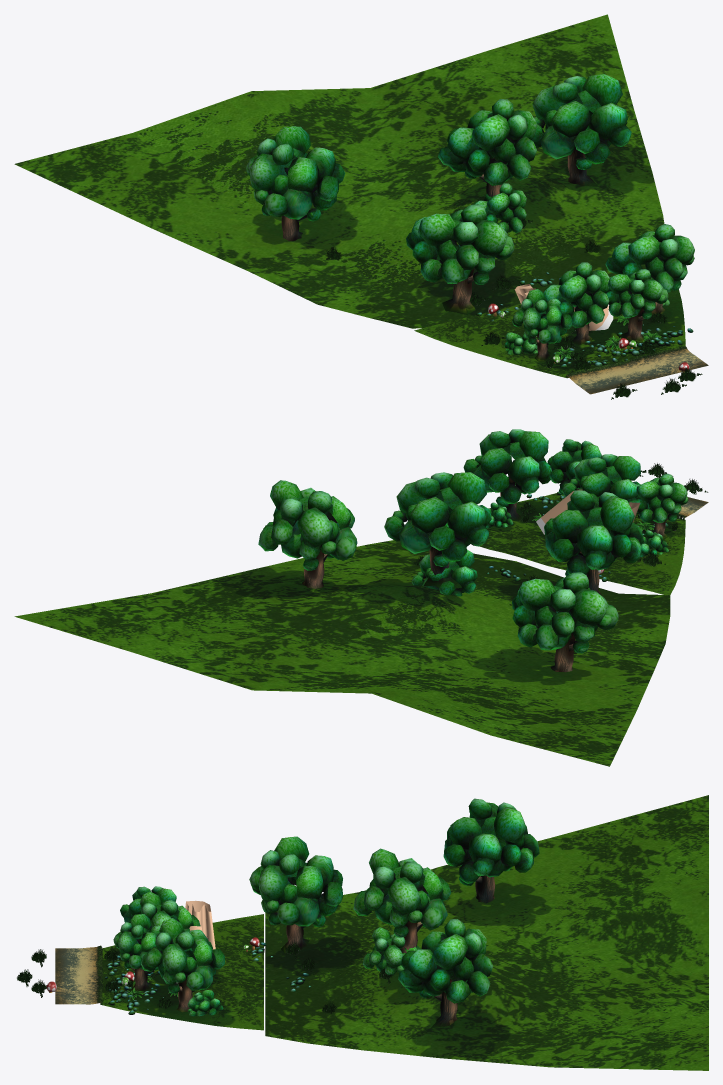
3 views of the same model, one above another, from view 1: azimuth 30°, elevation 25°; view 2: azimuth 150°, elevation 25°; view 3: azimuth 270°, elevation 25° (orthographic). The views are drawn at different scales.
Parts seen in each view (by area): view 1: ground3, Group012, ground2, Group010, Group013, Group011, Group017, ground1, Group015, Group016, Group014, Group020 (+1 smaller); view 2: ground3, Group011, Group013, Group010, Group012, ground2, Group017, Group015, Group014, Group020, Group016, Box257 (+1 smaller); view 3: ground3, ground2, Group013, Group010, Group012, Group011, Group017, ground1, Group016, Group020, Group015, Group014 (+5 smaller).
Boxes of the visible parts, <box> form: ground3: <box>14,14,664,328</box>; Group012: <box>532,73,631,169</box>; ground2: <box>414,289,685,378</box>; Group010: <box>246,126,345,221</box>; Group013: <box>406,204,514,284</box>; Group011: <box>438,99,536,185</box>; Group017: <box>605,224,694,292</box>; ground1: <box>566,345,708,394</box>; Group015: <box>544,262,609,328</box>; Group016: <box>606,269,668,319</box>; Group014: <box>512,289,572,344</box>; Group020: <box>473,183,526,233</box>; ground3: <box>14,540,670,766</box>; Group011: <box>384,472,491,566</box>; Group013: <box>544,490,643,576</box>; Group010: <box>512,572,618,653</box>; Group012: <box>258,480,357,570</box>; ground2: <box>479,493,685,595</box>; Group017: <box>463,429,551,506</box>; Group015: <box>562,454,640,502</box>; Group014: <box>636,473,688,522</box>; Group020: <box>411,549,477,596</box>; Group016: <box>547,439,601,494</box>; Box257: <box>550,633,575,672</box>; ground3: <box>265,795,708,1070</box>; ground2: <box>100,914,263,1030</box>; Group013: <box>249,836,343,927</box>; Group010: <box>443,798,539,885</box>; Group012: <box>398,919,493,1003</box>; Group011: <box>353,848,451,937</box>; Group017: <box>141,918,224,993</box>; ground1: <box>55,945,102,1004</box>; Group016: <box>113,914,160,970</box>; Group020: <box>363,927,420,975</box>; Group015: <box>139,891,200,931</box>; Group014: <box>120,886,176,922</box>.
Size of the model in its own units: 1400 by 339 by 1465.
